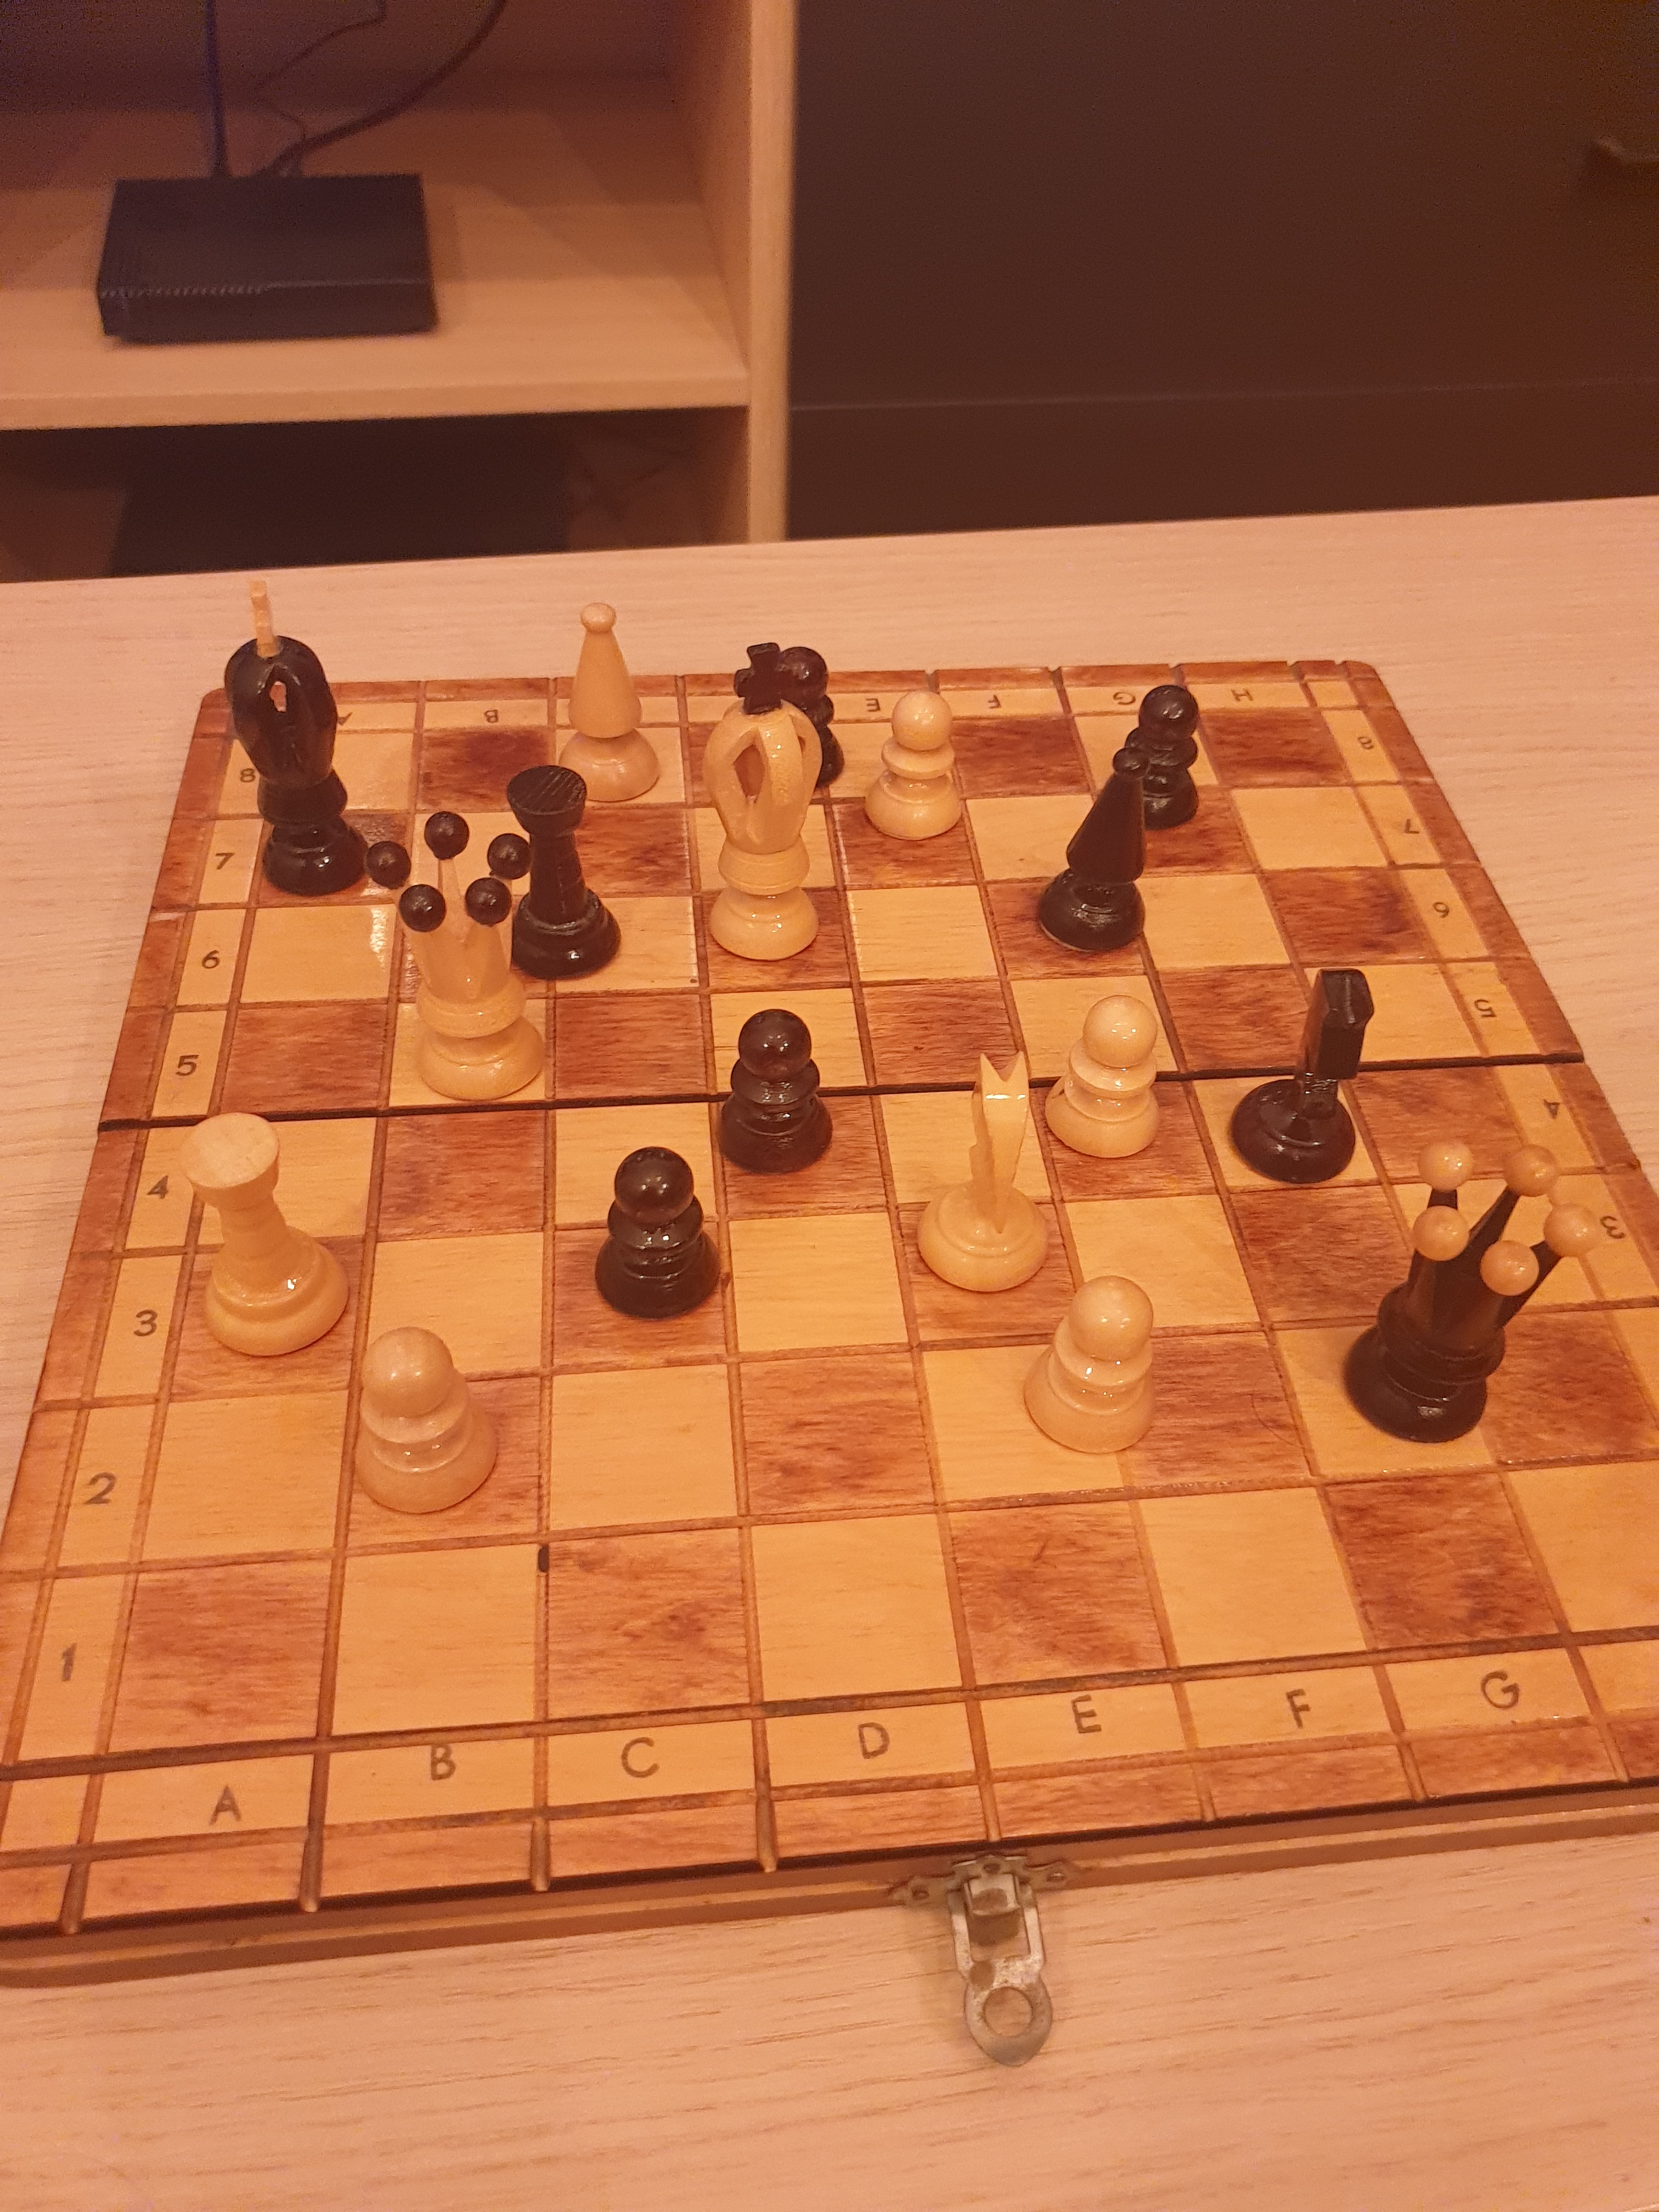bking: (218, 564, 375, 899)
bknight: (1213, 951, 1391, 1200)
bpawn: (580, 1134, 741, 1343), (708, 995, 840, 1193), (1093, 674, 1227, 840), (755, 629, 843, 817)
bqueen: (1330, 1130, 1610, 1449)
brook: (497, 754, 636, 988)
wbishop: (1025, 745, 1168, 963), (547, 583, 676, 822)
wking: (687, 634, 833, 972)
wknight: (910, 1038, 1056, 1305)
wpawn: (331, 1294, 500, 1527), (1011, 1266, 1180, 1474), (1025, 982, 1175, 1184), (854, 669, 974, 857)
wqueen: (357, 801, 580, 1129)
wrook: (169, 1101, 364, 1367)
